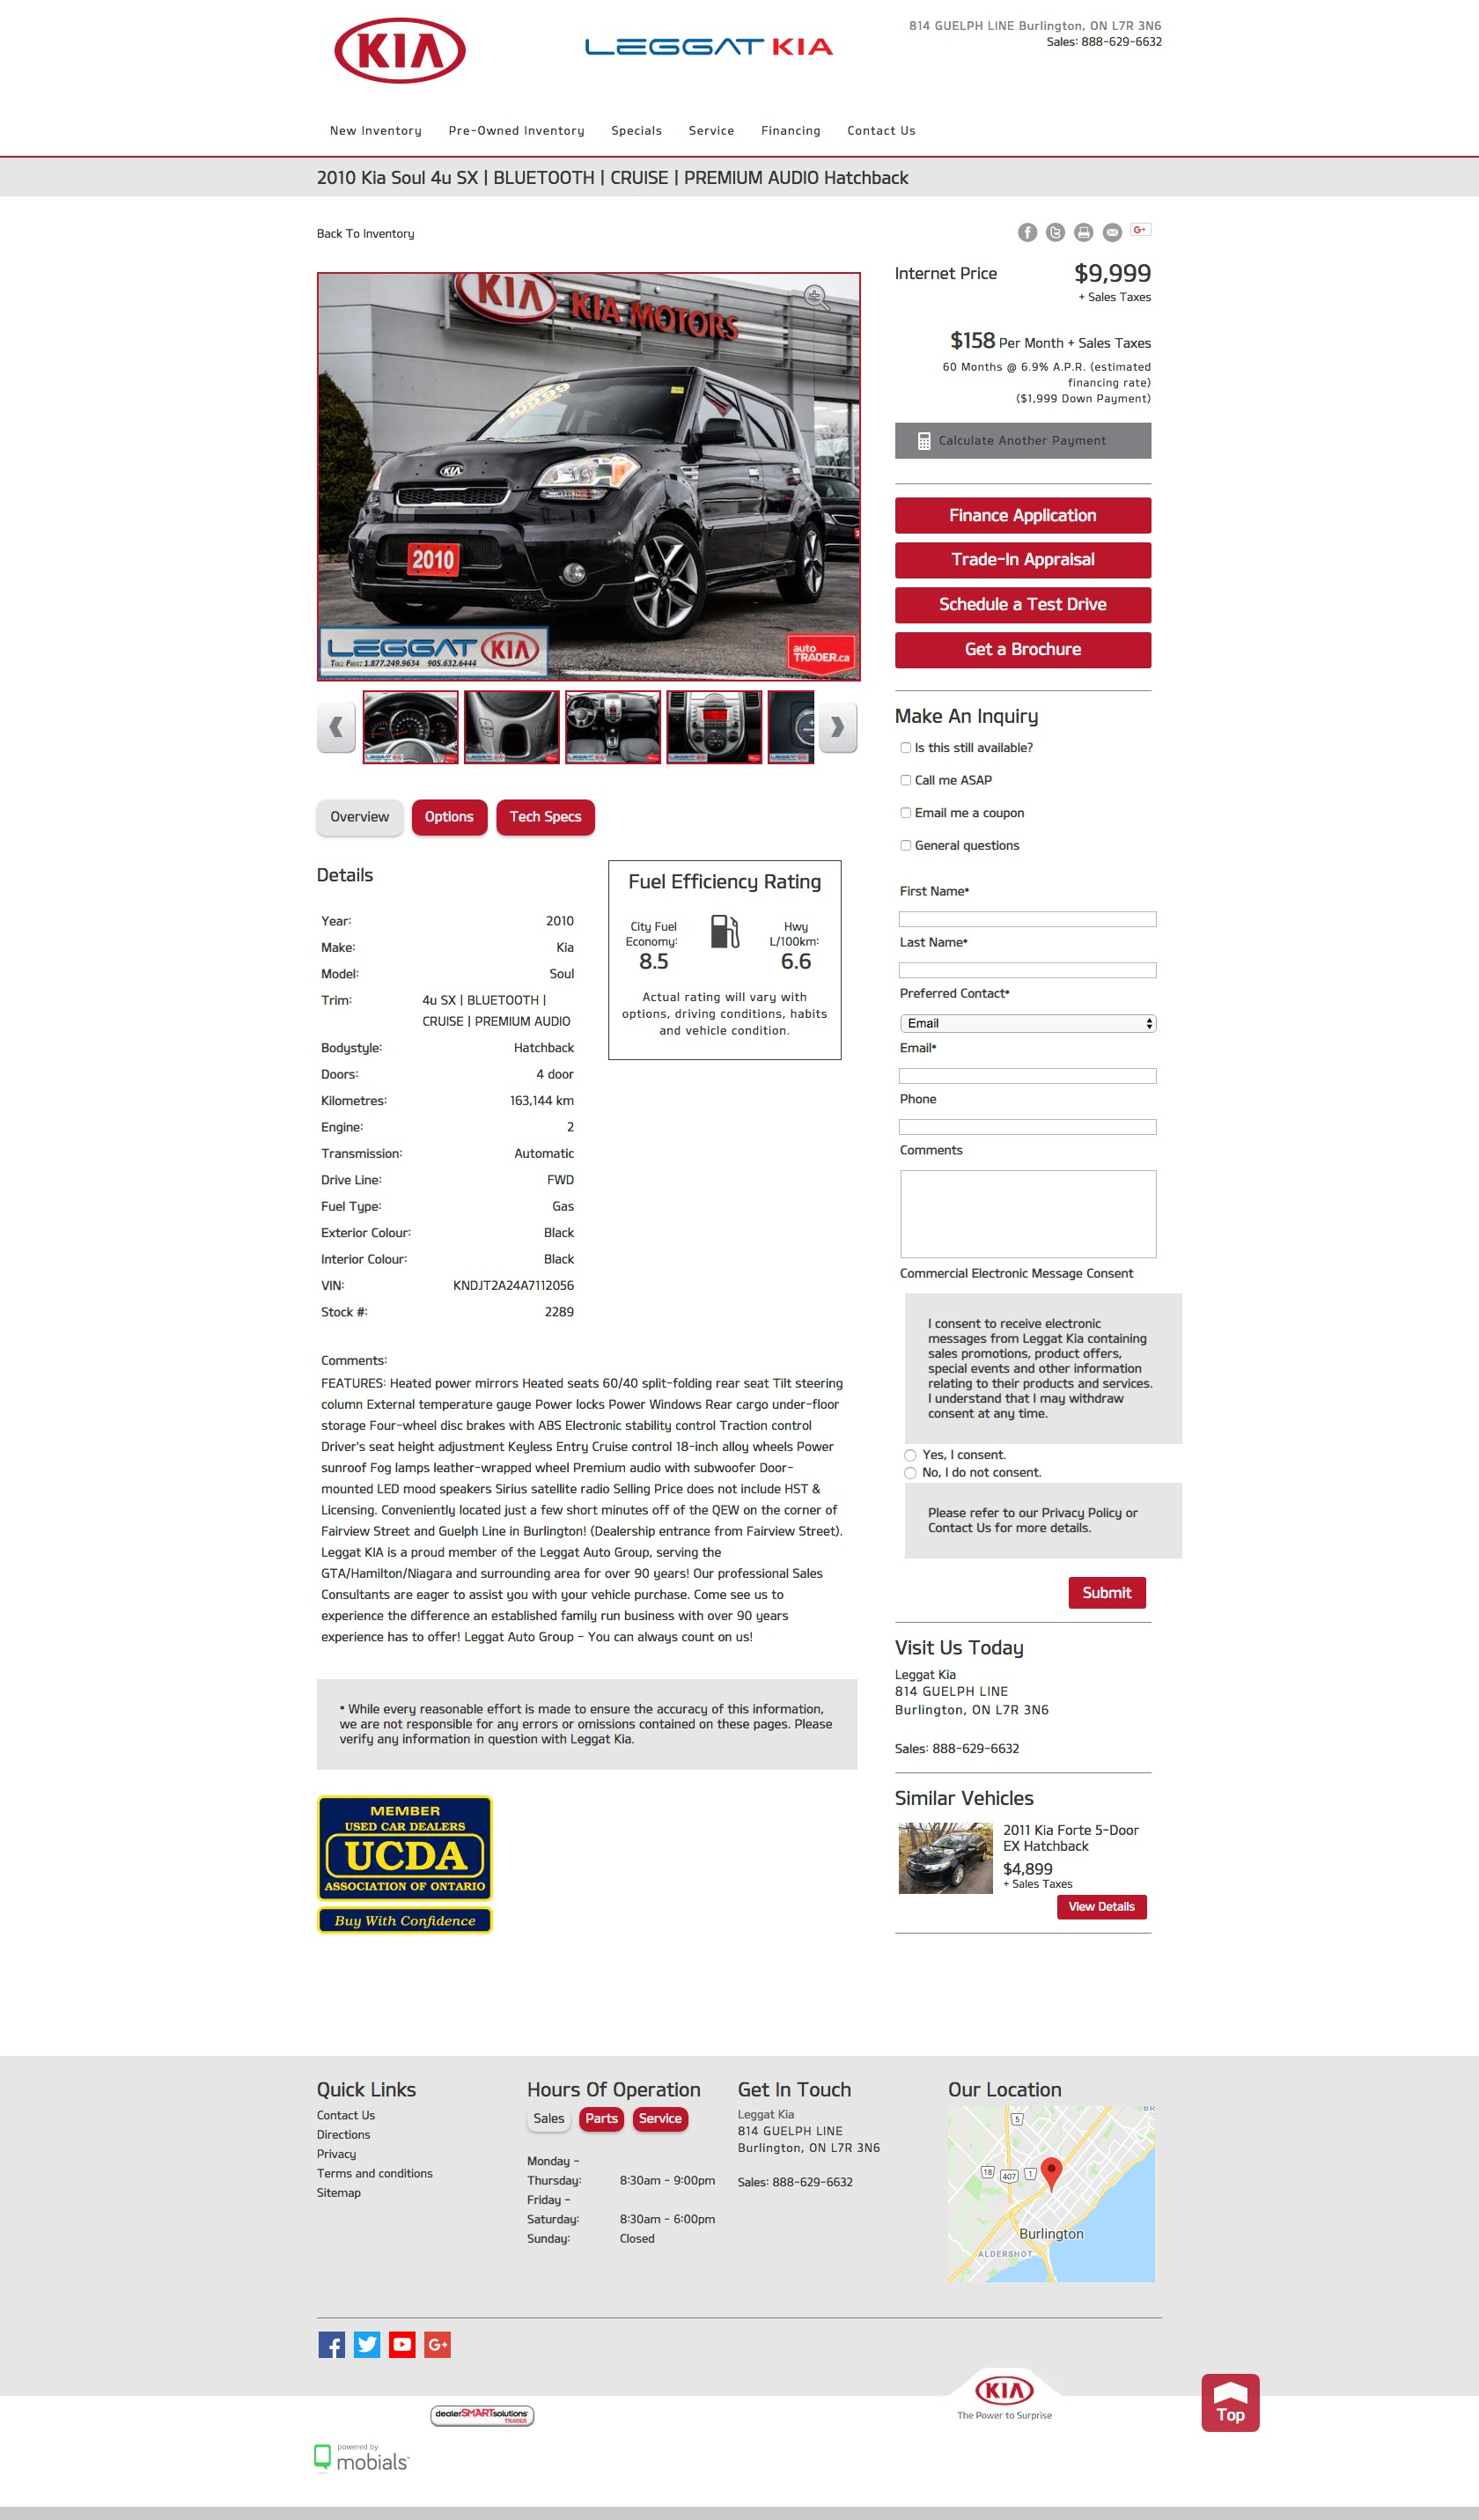car: (817, 701, 863, 754)
